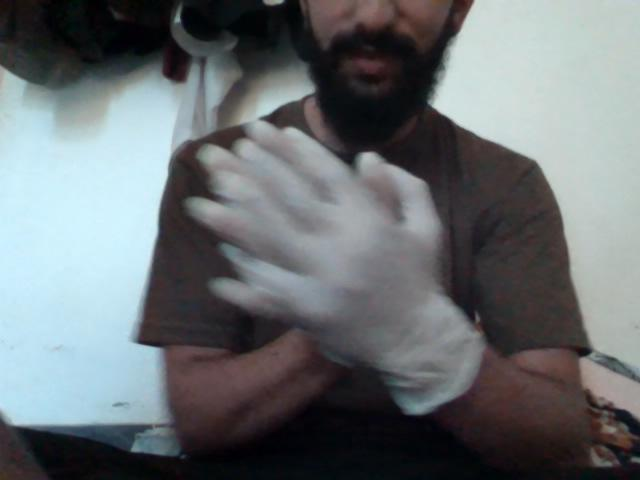gloves: (169, 77, 501, 420)
